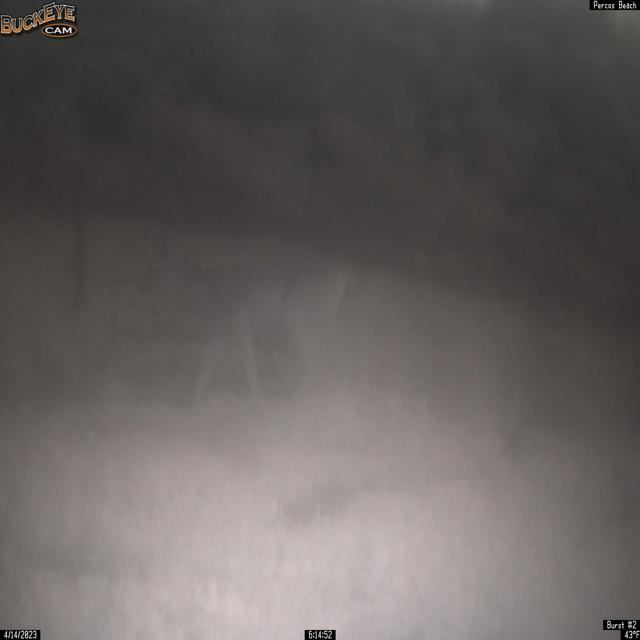deer: (140, 234, 353, 408)
